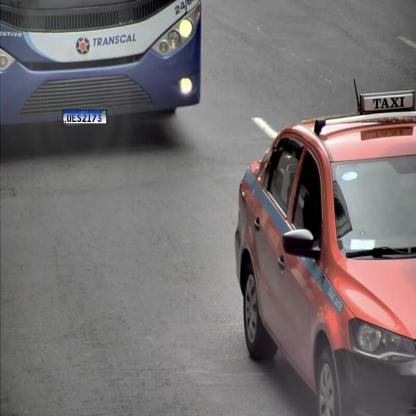PlacaM: (63, 110, 107, 124)
